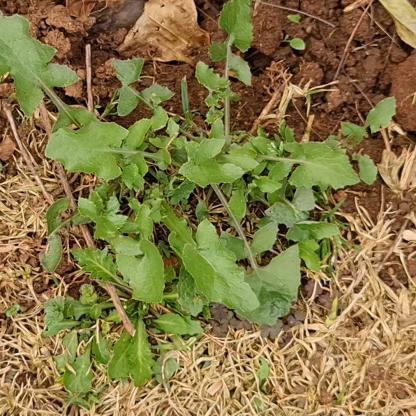Weeds: (3, 1, 397, 395)
